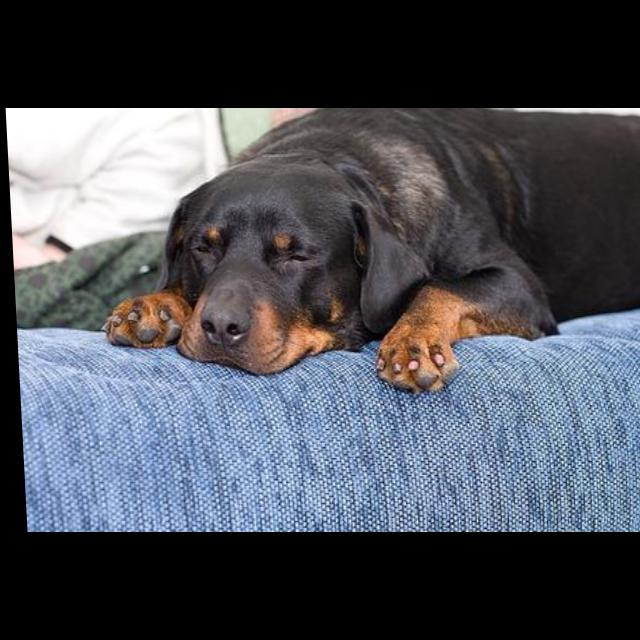rottweiler: (89, 109, 640, 395)
